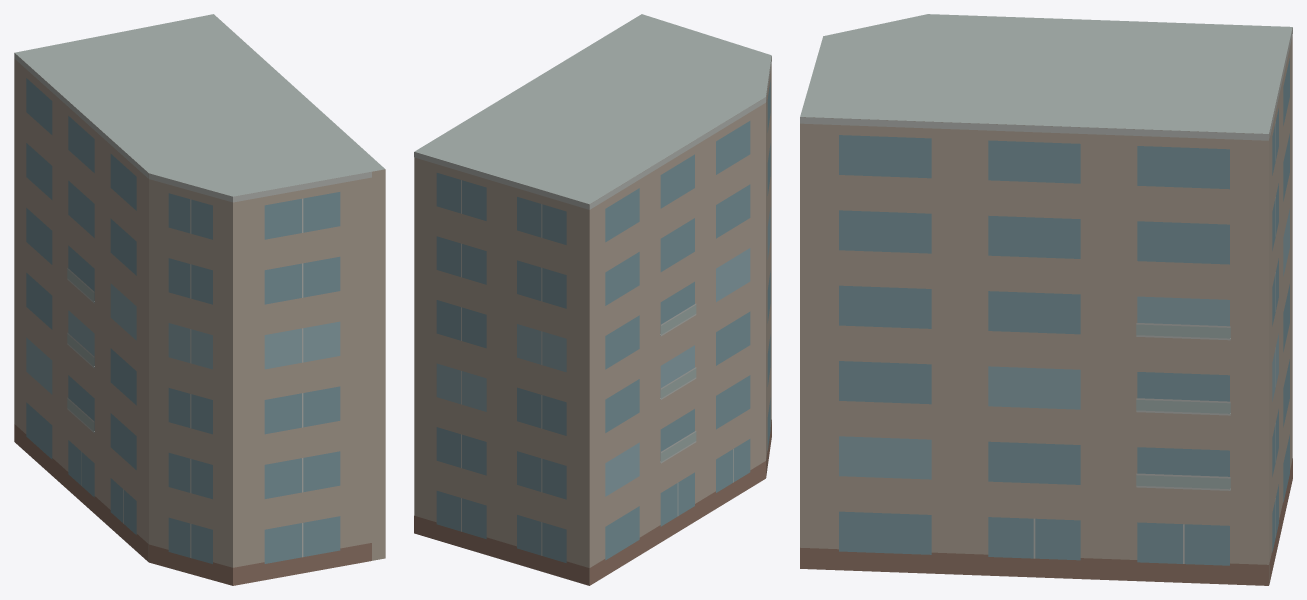
The model's file is survey-upis-32964738.glb.
3 renders of one model, left to right at view 1: azimuth 30°, elevation 25°; view 2: azimuth 150°, elevation 25°; view 3: azimuth 270°, elevation 25°, orthographic. The views are drawn at different scales.
Parts seen in each view (by area): view 1: survey-upis-32964738.tmp; view 2: survey-upis-32964738.tmp; view 3: survey-upis-32964738.tmp.
Boxes of the visible parts, x1,y1,x2,y2 form: survey-upis-32964738.tmp: (14,14,385,585); survey-upis-32964738.tmp: (414,14,771,585); survey-upis-32964738.tmp: (800,14,1292,585).
Size of the model in its own units: 9.29 by 16.3 by 16.11.
